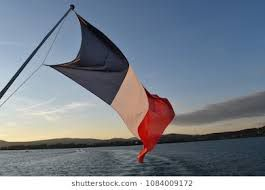French Flag: (46, 11, 175, 163)
